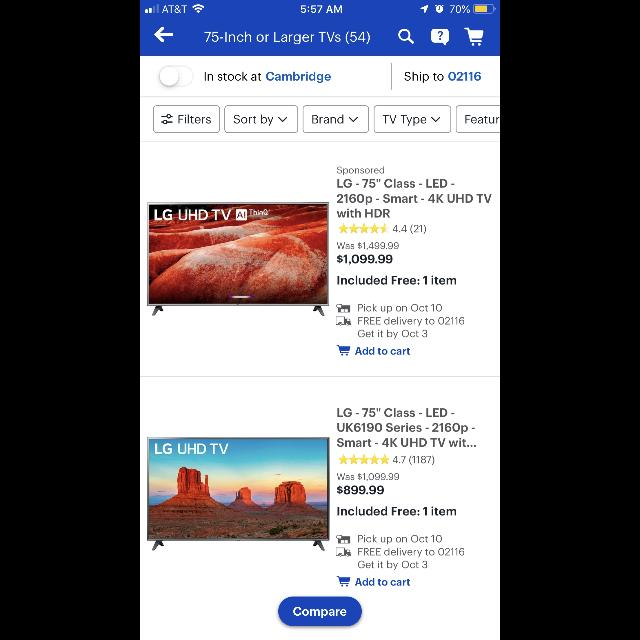icon: (338, 224, 389, 234), (339, 454, 389, 464), (464, 28, 484, 46), (154, 27, 174, 43), (432, 28, 448, 46), (398, 30, 414, 44), (337, 344, 351, 356), (337, 576, 351, 586), (278, 116, 288, 122), (432, 116, 441, 122), (348, 118, 358, 122)
image: (147, 202, 329, 316), (147, 437, 329, 551), (336, 534, 350, 544), (336, 316, 350, 326), (336, 548, 350, 556), (336, 304, 350, 312)
switch: (158, 65, 194, 87)
text: (336, 178, 492, 218), (338, 408, 477, 448), (358, 304, 464, 340), (358, 534, 464, 570), (204, 32, 370, 44), (205, 72, 331, 84), (338, 506, 457, 516), (338, 276, 457, 284), (404, 72, 482, 84), (338, 254, 392, 266), (337, 242, 399, 250), (337, 473, 399, 481), (354, 347, 410, 355), (354, 578, 410, 586), (393, 455, 435, 465), (338, 167, 384, 176), (336, 486, 384, 494), (392, 224, 426, 234)
textbutton: (278, 596, 362, 626), (374, 105, 452, 133), (224, 105, 298, 133), (154, 105, 220, 133), (303, 105, 369, 133), (456, 105, 500, 133)
uppertaskbar: (140, 0, 500, 14)
